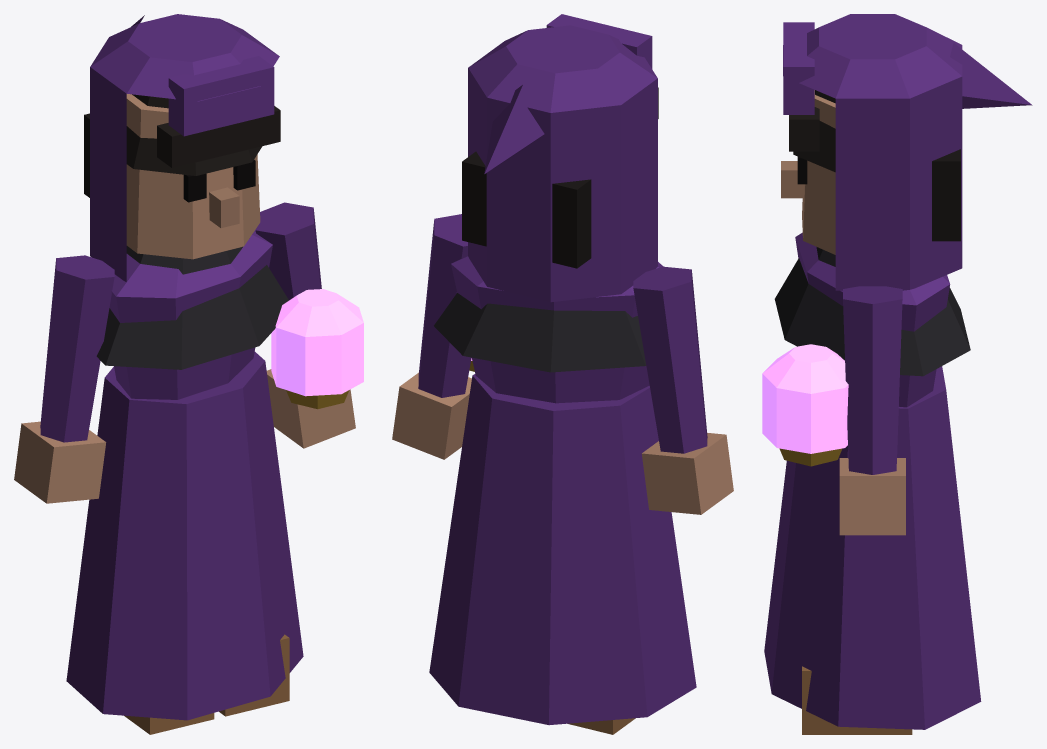
The model's file is enchanter.glb.
The picture shows the model from 3 angles, left to right: view 1: azimuth 30°, elevation 25°; view 2: azimuth 150°, elevation 25°; view 3: azimuth 270°, elevation 25°; orthographic projection.
Visible parts, largest first — view 1: enchanter_torso, enchanter_head, enchanter_arm_r, enchanter_orb, enchanter_arm_l, enchanter_leg_l, enchanter_leg_r; view 2: enchanter_torso, enchanter_head, enchanter_arm_r, enchanter_arm_l, enchanter_leg_r; view 3: enchanter_torso, enchanter_head, enchanter_arm_l, enchanter_orb, enchanter_leg_l.
Part boxes in pixels (left/top/right/bottom): enchanter_torso: left=66, top=230, right=303, bottom=720; enchanter_head: left=84, top=14, right=280, bottom=281; enchanter_arm_r: left=14, top=255, right=114, bottom=503; enchanter_orb: left=271, top=289, right=363, bottom=409; enchanter_arm_l: left=255, top=202, right=355, bottom=448; enchanter_leg_l: left=219, top=634, right=289, bottom=716; enchanter_leg_r: left=124, top=713, right=214, bottom=734; enchanter_torso: left=429, top=256, right=696, bottom=725; enchanter_head: left=462, top=14, right=658, bottom=302; enchanter_arm_r: left=633, top=266, right=733, bottom=514; enchanter_arm_l: left=392, top=214, right=471, bottom=459; enchanter_leg_r: left=567, top=718, right=635, bottom=734; enchanter_torso: left=764, top=232, right=981, bottom=729; enchanter_head: left=781, top=14, right=1032, bottom=290; enchanter_arm_l: left=839, top=286, right=905, bottom=535; enchanter_orb: left=762, top=344, right=848, bottom=466; enchanter_leg_l: left=802, top=666, right=912, bottom=734.
Size of the model in its own units: 0.821 by 1.66 by 0.6122.
